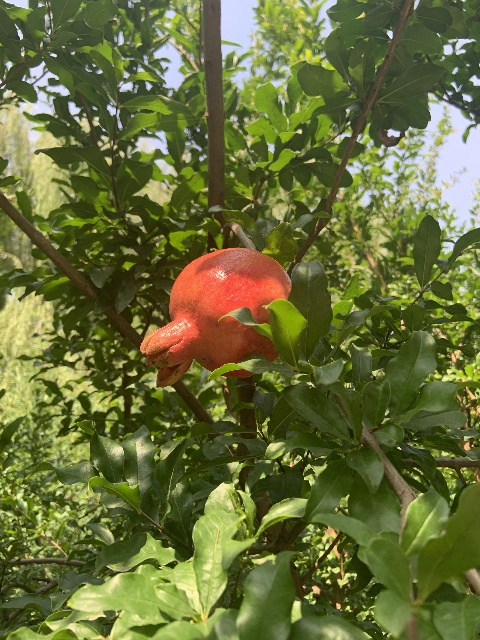ripe: (140, 247, 290, 387)
